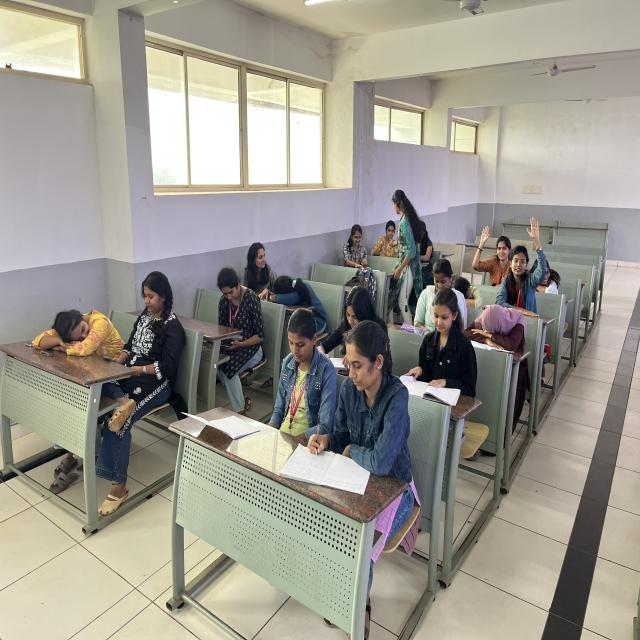Hand Rising: (499, 212, 551, 304), (469, 223, 513, 280)
Reading: (399, 283, 472, 405)
Sleeping: (25, 298, 136, 377), (462, 296, 540, 374), (259, 264, 328, 316)
Using Phone: (97, 268, 190, 403), (266, 299, 337, 431), (210, 266, 272, 378)
Writing: (303, 313, 403, 485)
